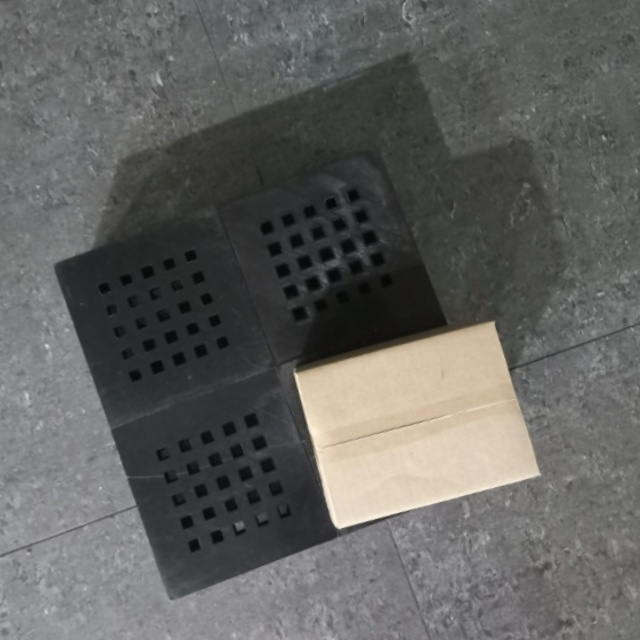box: (288, 314, 545, 535)
pallet: (37, 138, 516, 614)
